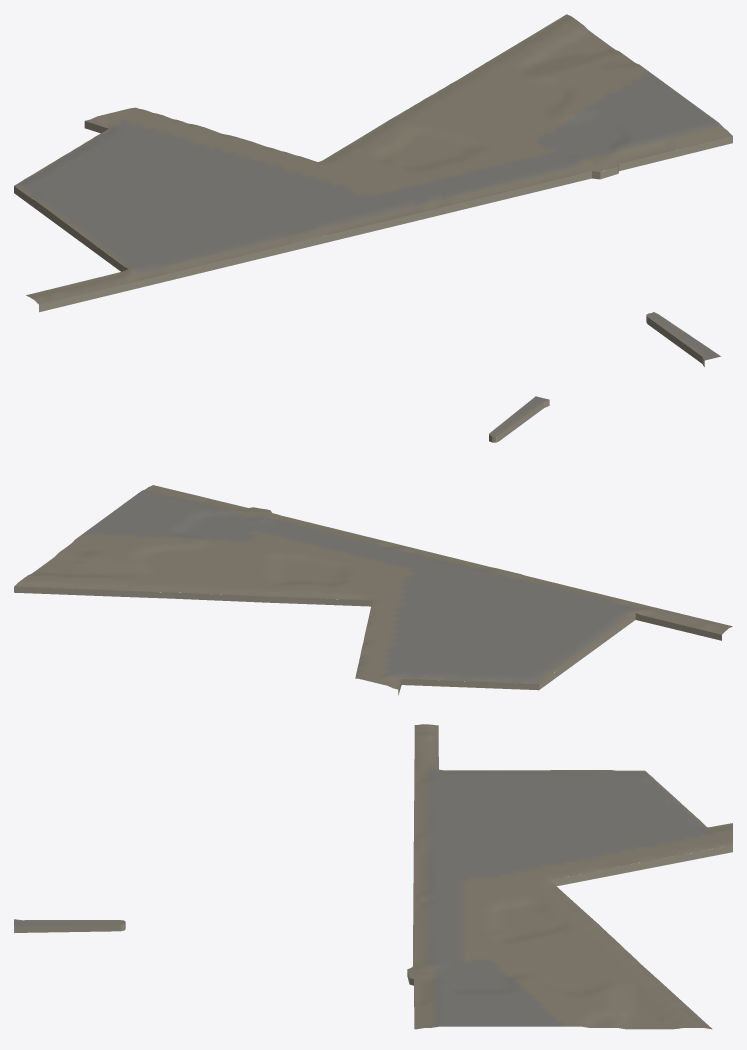
File: terrain.glb
The picture shows the model from 3 angles, top to bottom: view 1: azimuth 30°, elevation 25°; view 2: azimuth 150°, elevation 25°; view 3: azimuth 270°, elevation 25°; orthographic projection. The views are drawn at different scales.
Parts seen in each view (by area): view 1: T_W2_N5_terrain; view 2: T_W2_N5_terrain; view 3: T_W2_N5_terrain.
Part boxes in pixels (left/top/right/bottom): T_W2_N5_terrain: left=14, top=14, right=732, bottom=366; T_W2_N5_terrain: left=14, top=396, right=732, bottom=695; T_W2_N5_terrain: left=14, top=724, right=732, bottom=1029.
Size of the model in its own units: 500 by 7 by 500.
